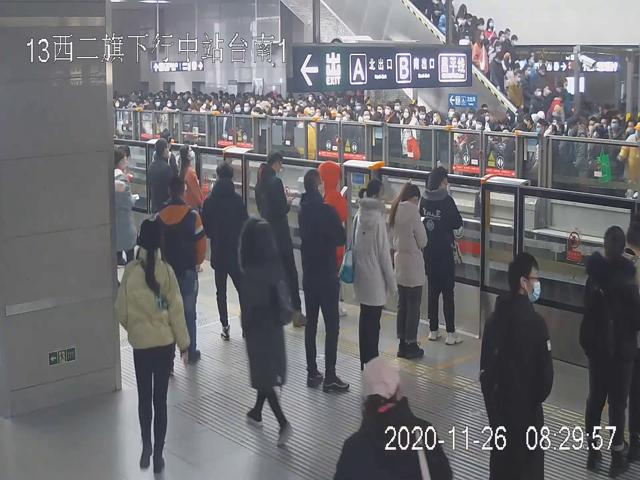person: (116, 220, 188, 473), (478, 250, 555, 480), (581, 225, 638, 476), (236, 219, 296, 451), (299, 169, 351, 392), (254, 152, 307, 327), (200, 162, 251, 341), (155, 178, 204, 364), (353, 178, 396, 370), (421, 168, 464, 345), (389, 183, 427, 361)
